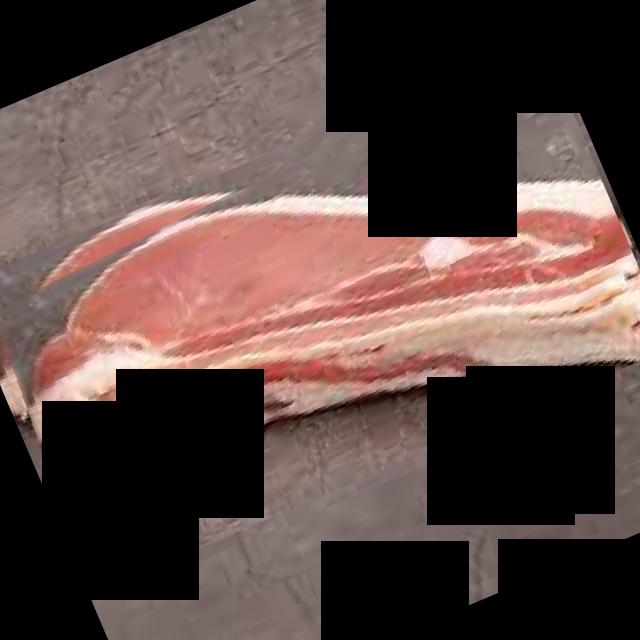bacon: (0, 36, 640, 593)
